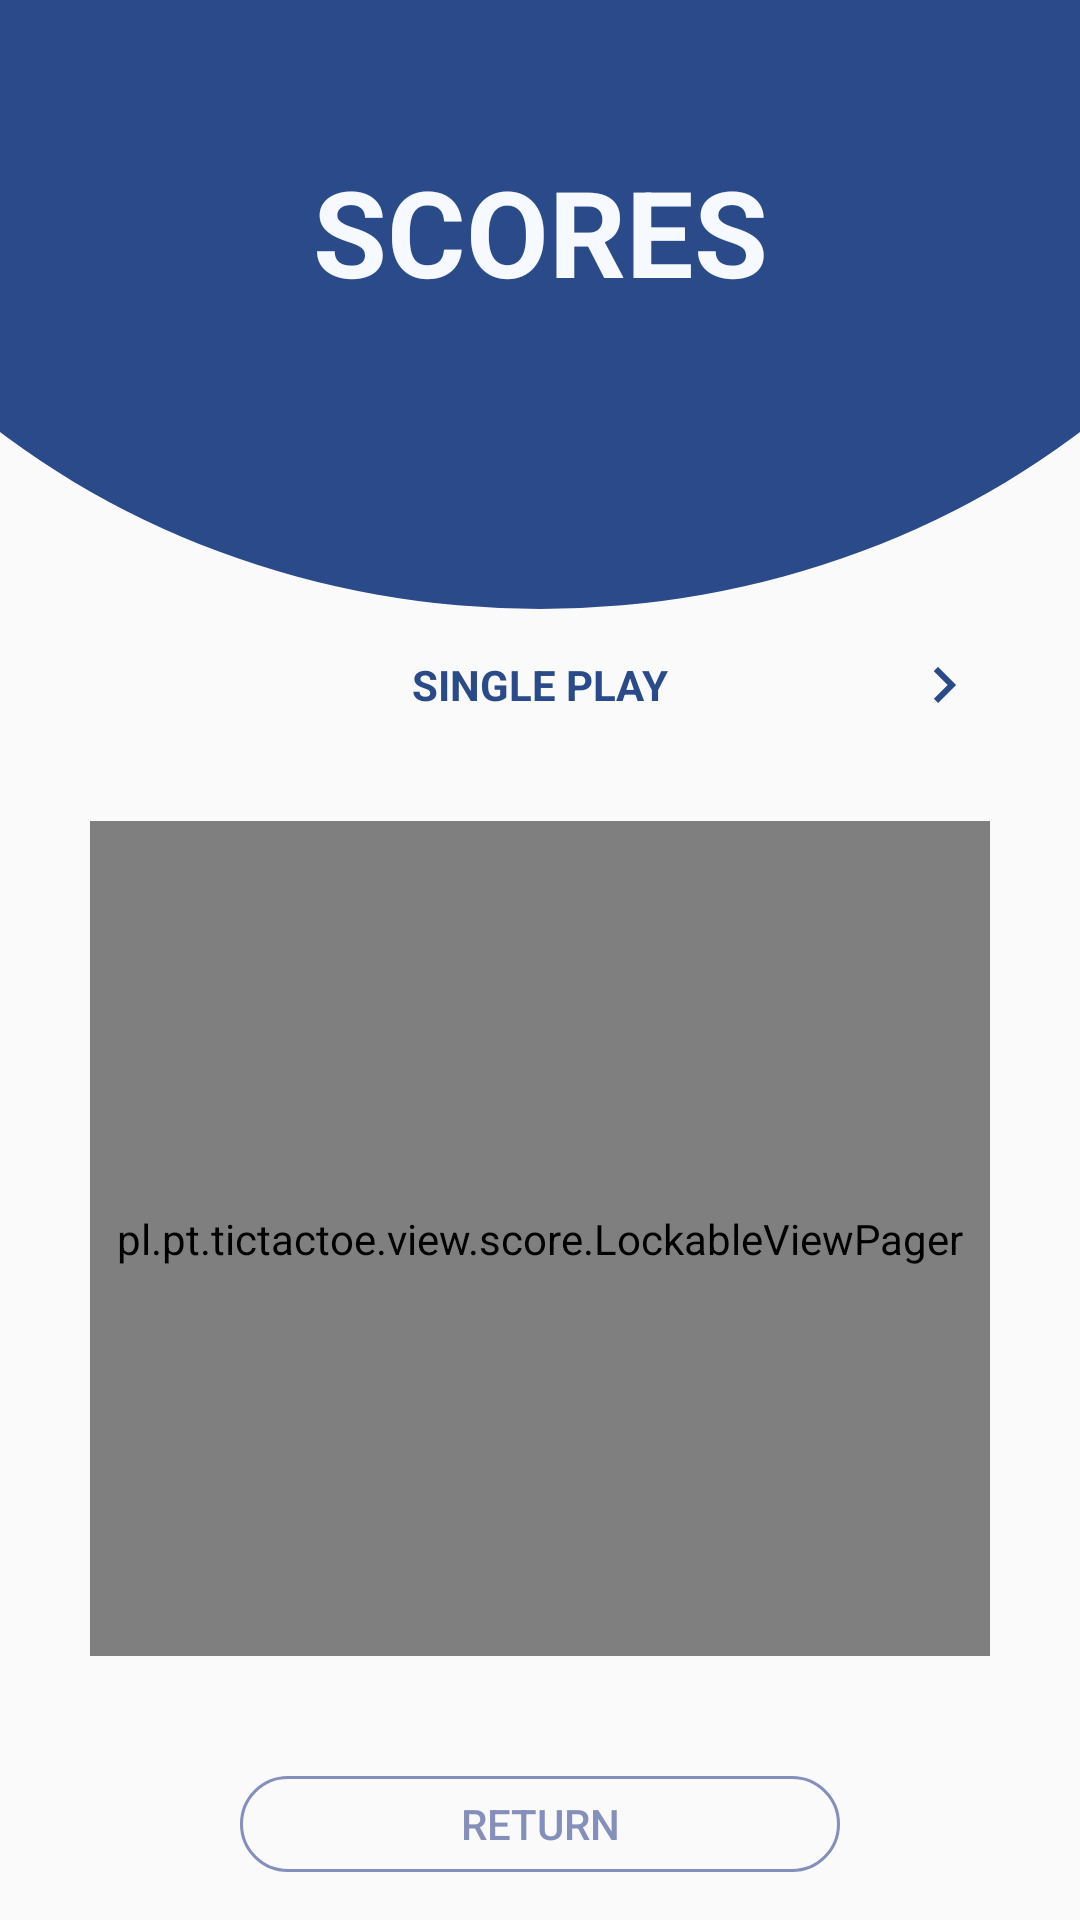

Icon click points for this 1080×1920 phone screenshot, format (x=x, y=y):
arrow right: (x=945, y=685)
